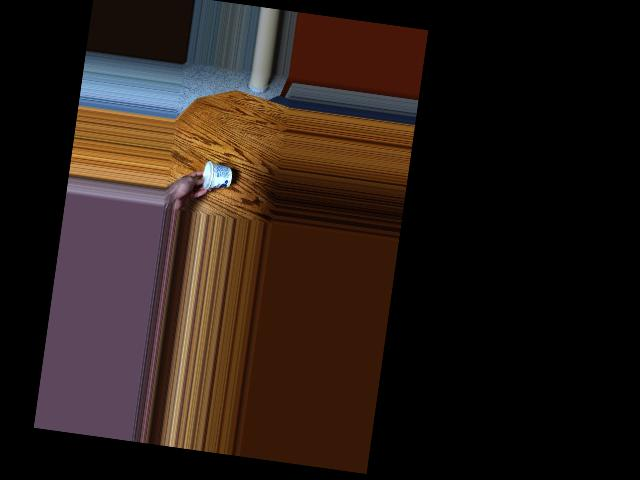cotage: (196, 157, 229, 189)
